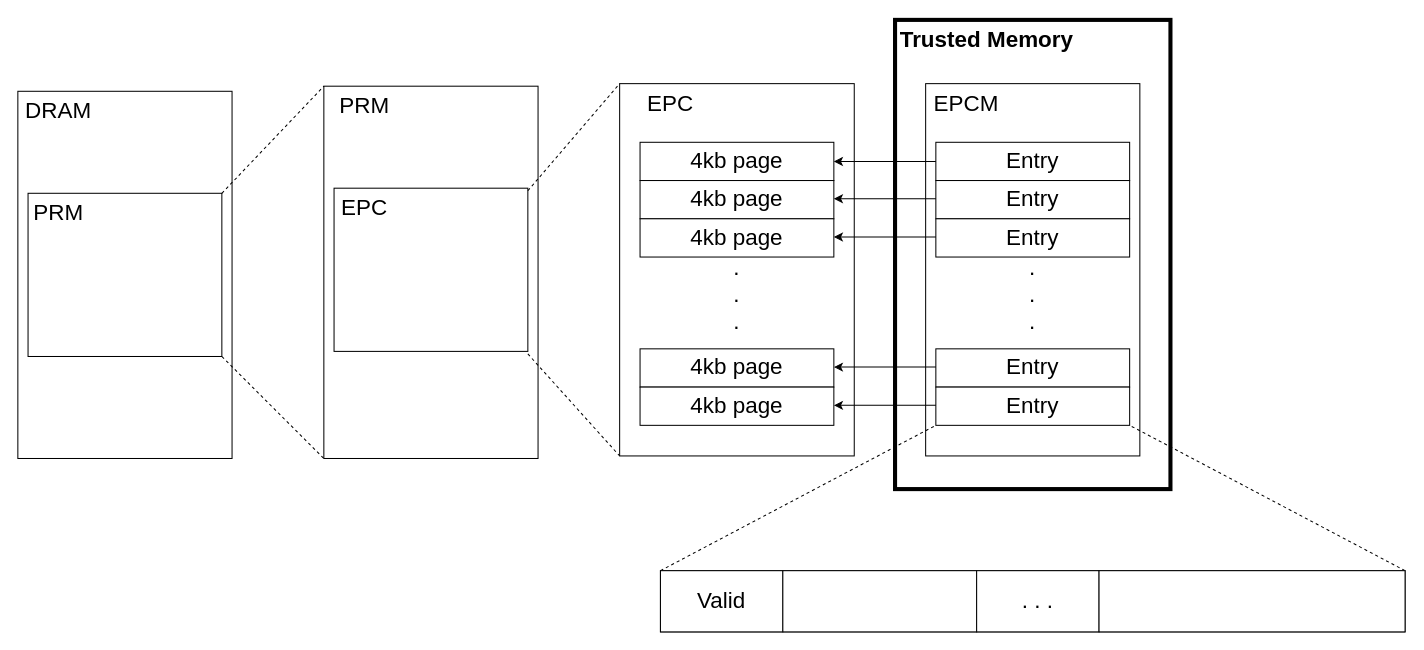
Some shapes in this 1424 by 650 pixel diagram are drawn without their labels. Here are the shapes that lost their labels. From the top down, the centre of each, then its label:
point 879,601: Page Type
point 1251,601: Owner Enclave
